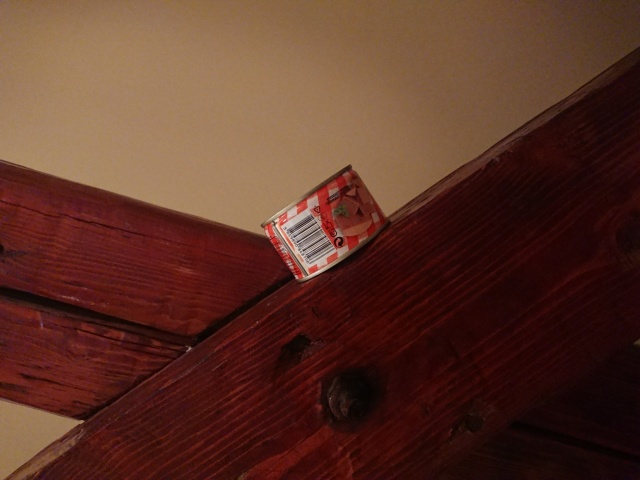Podravka Luncheon Meat 150g: (258, 162, 394, 287)
